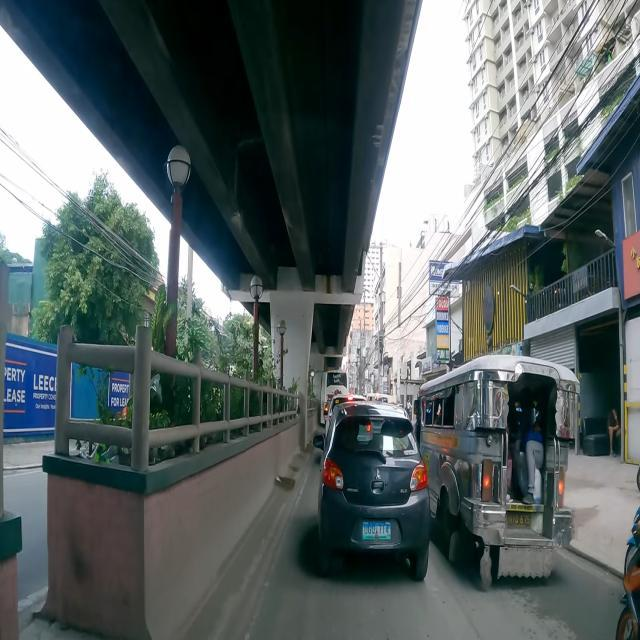bus: (324, 370, 347, 420)
car: (318, 402, 430, 580)
jeepney: (417, 354, 579, 588)
motorcycle: (616, 568, 640, 640), (624, 507, 640, 577)
